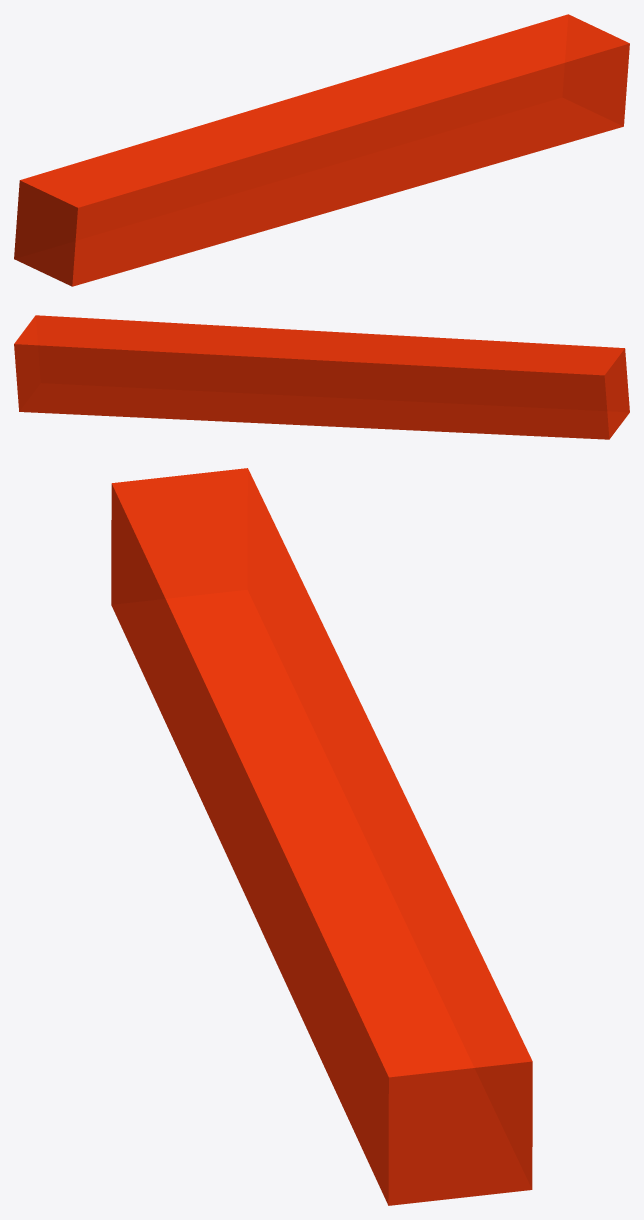
The model's file is Event_420094457_EErechit_60.fbx.
3 renders of one model, top to bottom at view 1: azimuth 30°, elevation 25°; view 2: azimuth 150°, elevation 25°; view 3: azimuth 270°, elevation 25°, orthographic. The views are drawn at different scales.
Parts seen in each view (by area): view 1: Model; view 2: Model; view 3: Model.
Boxes of the visible parts, <box> form: Model: <box>14,14,629,286</box>; Model: <box>14,315,629,439</box>; Model: <box>111,468,532,1205</box>.
Bounding box in the file's own units: 0.6451 × 0.127 × 0.2187.
